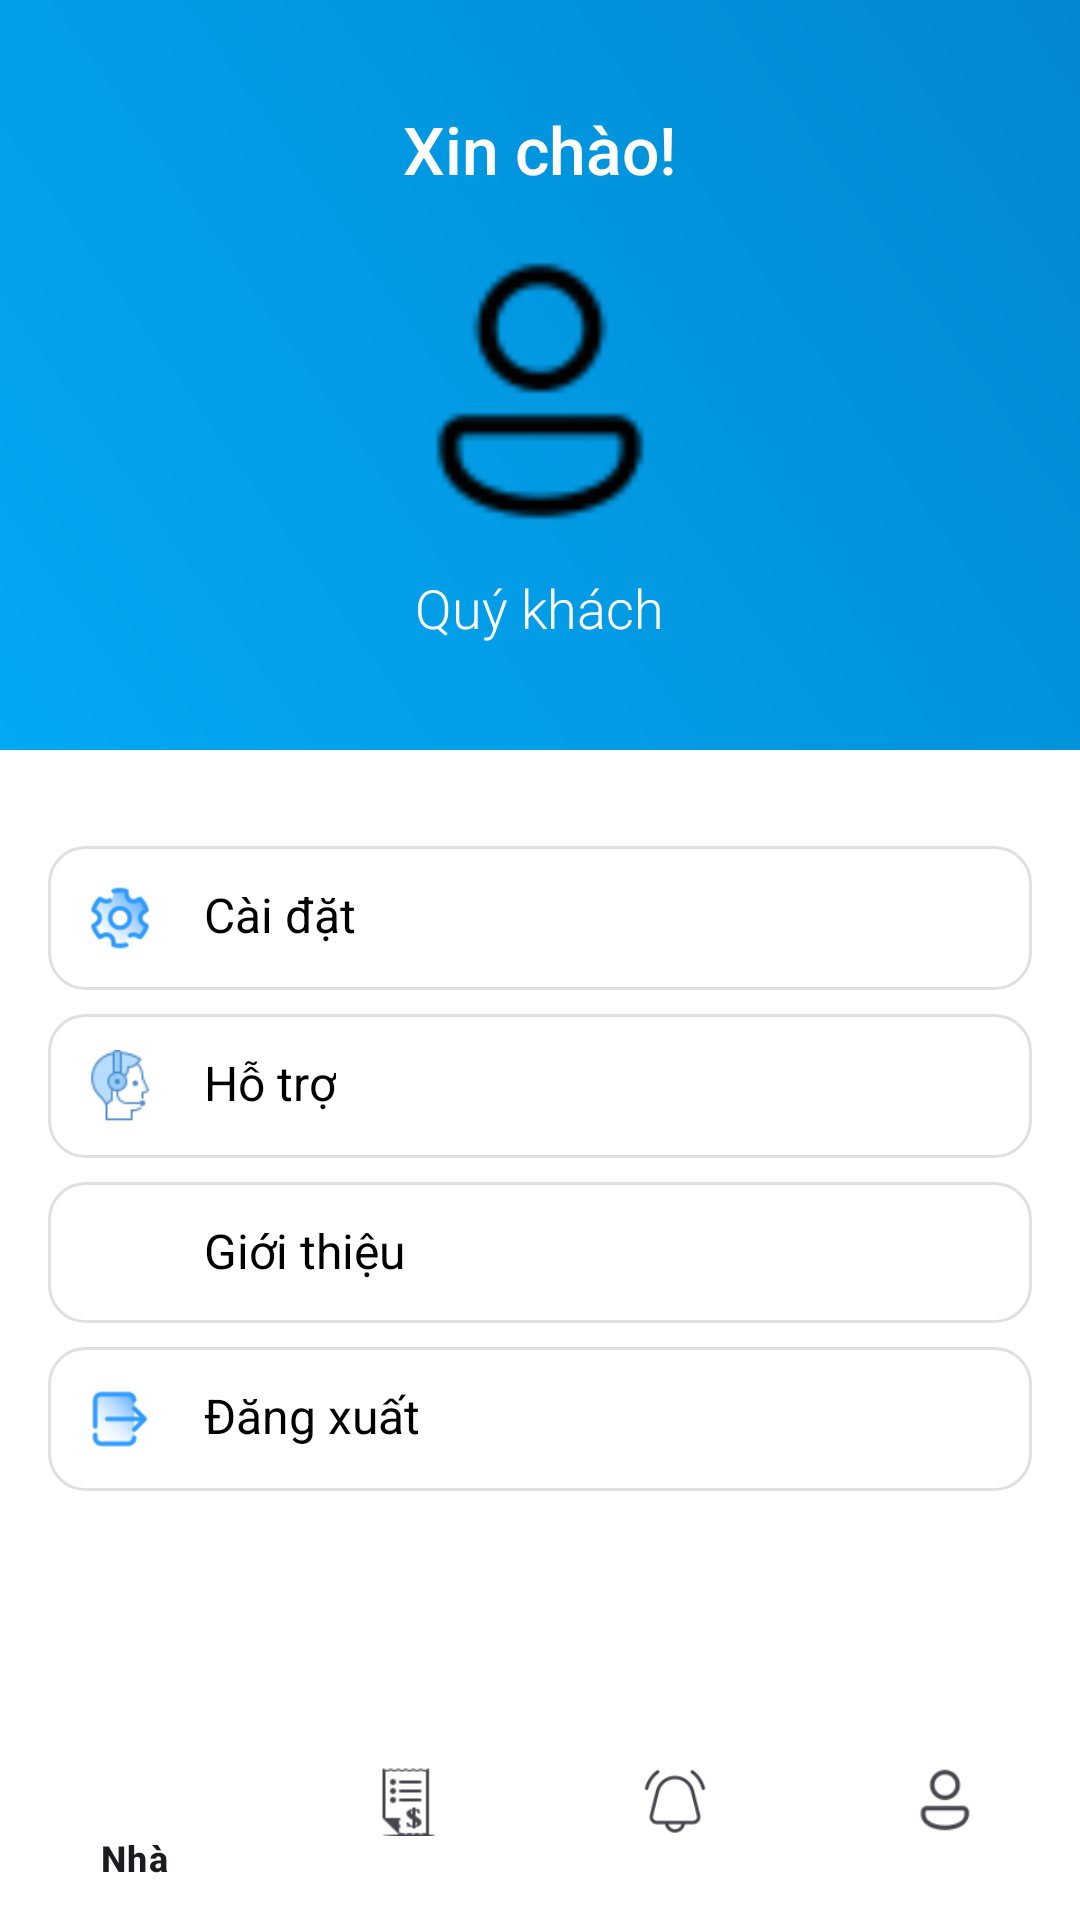

Named icons in this screenshot (1080×1920) and their centers, [x,y]:
settings: [120,918]
support: [120,1085]
user: [540,391]
